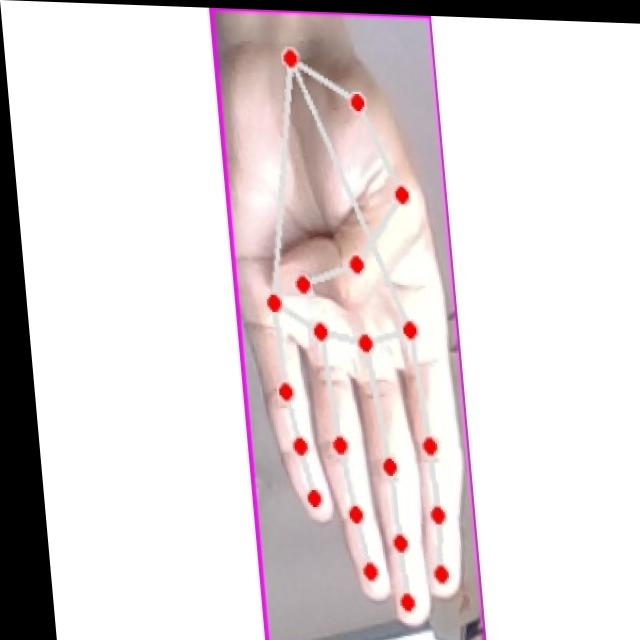B: (222, 39, 465, 637)
